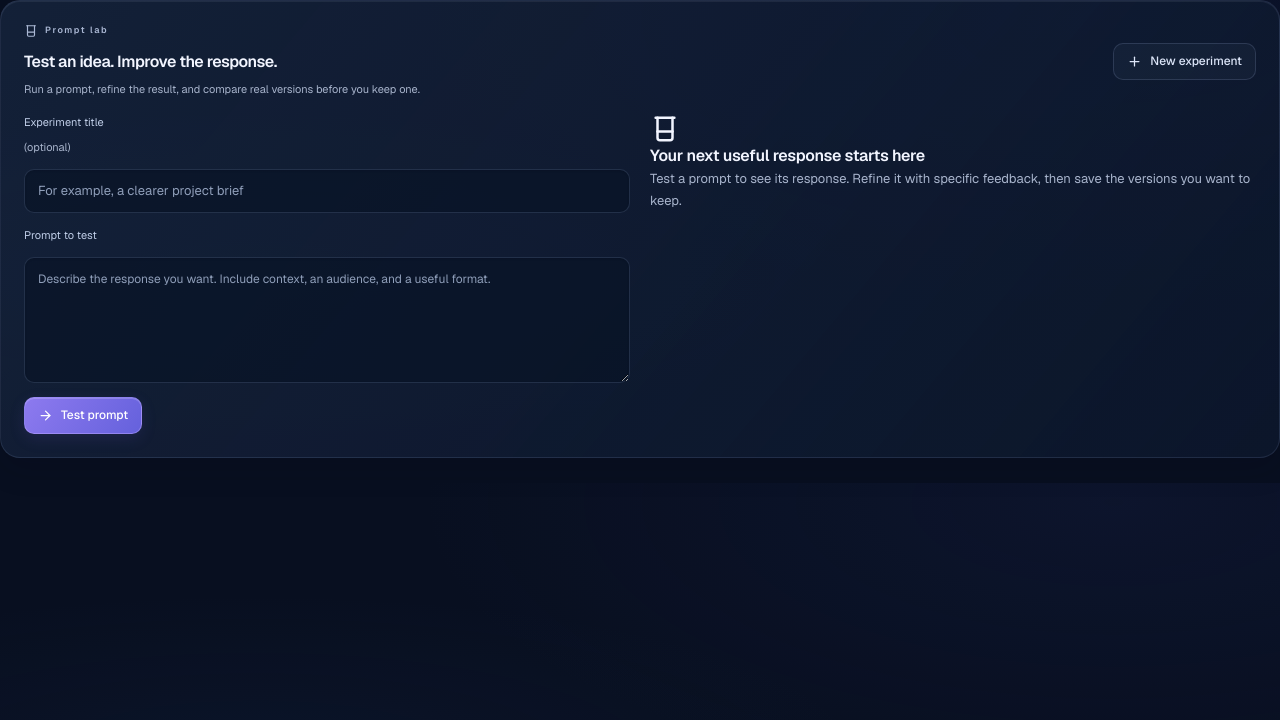
Test: prompt experiment workspace › preserves the prompt and earlier response when a refinement fails
Replace the text in the text box labelled "Prompt to test" with "Write a project brief with next steps.". click: (327, 320)
box: left=24, top=257, right=630, bottom=383
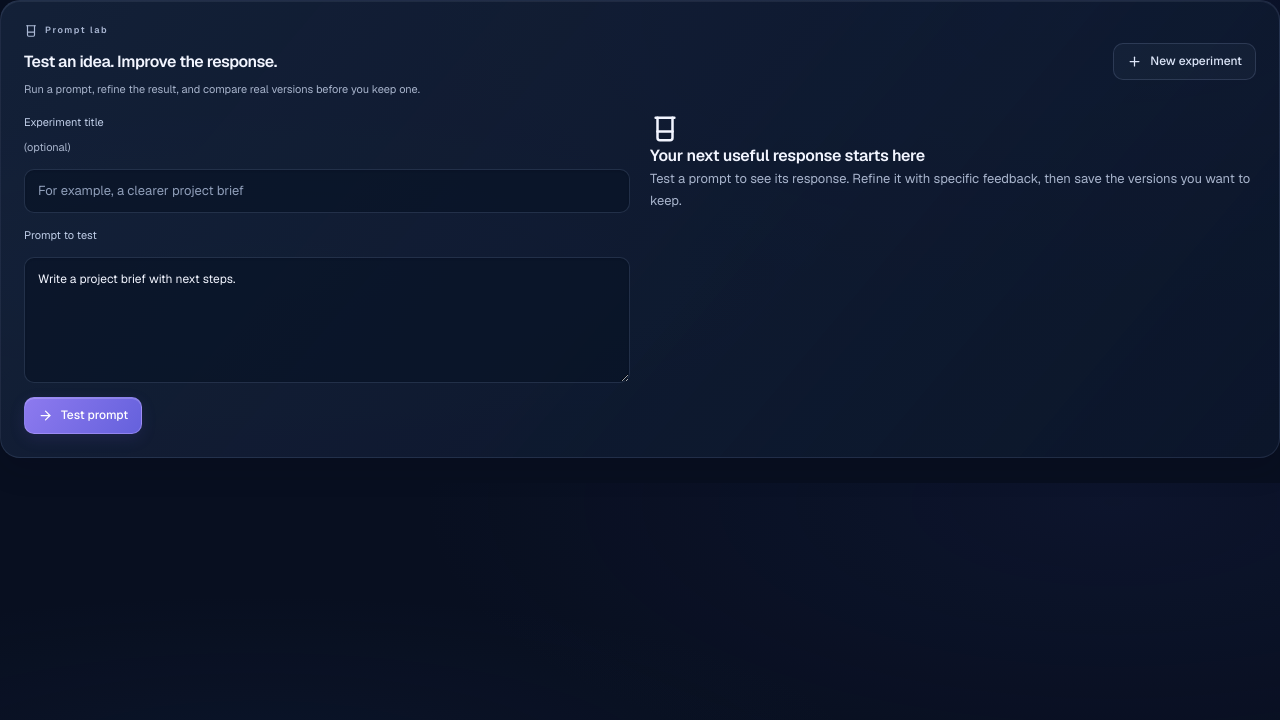
Click the button "Test prompt". click: (83, 416)
box: left=24, top=397, right=142, bottom=434
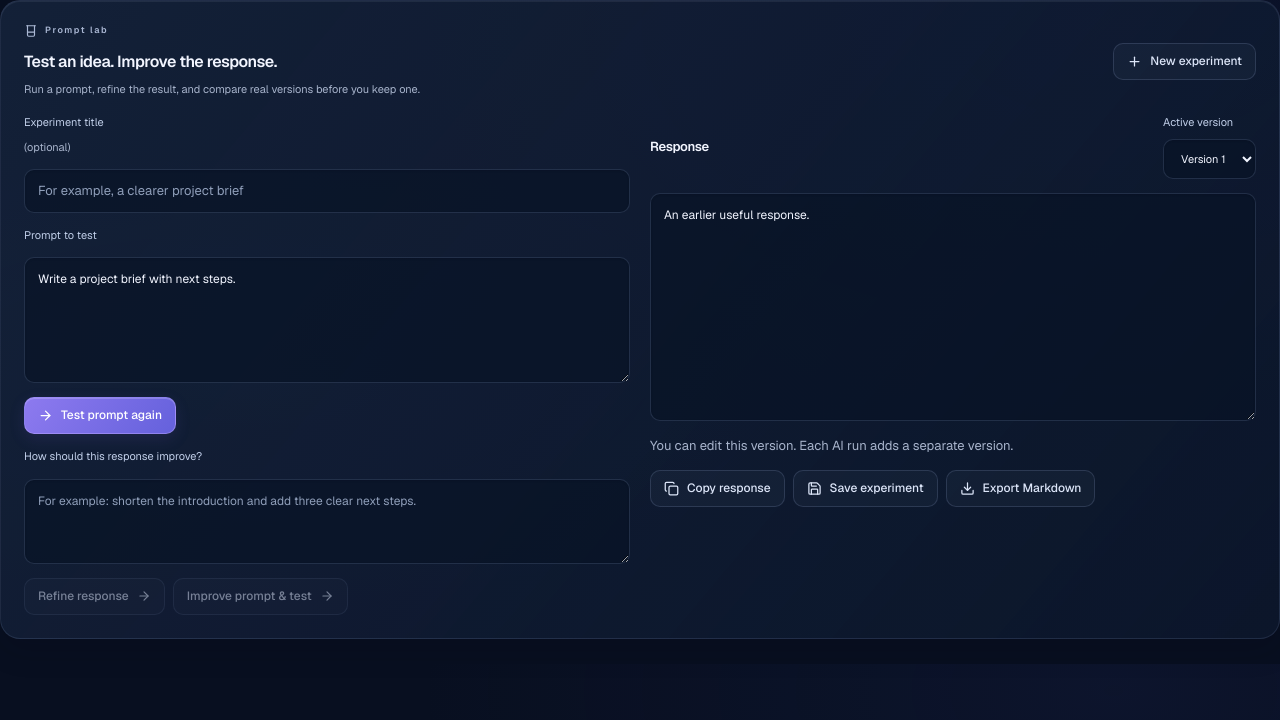
expect the text box named "Experiment response" is shown: met, box left=650, top=193, right=1256, bottom=420
Replace the text in the text box labelled "How should this response improve?" with "Use simpler words". click: (327, 521)
box: left=24, top=479, right=630, bottom=564
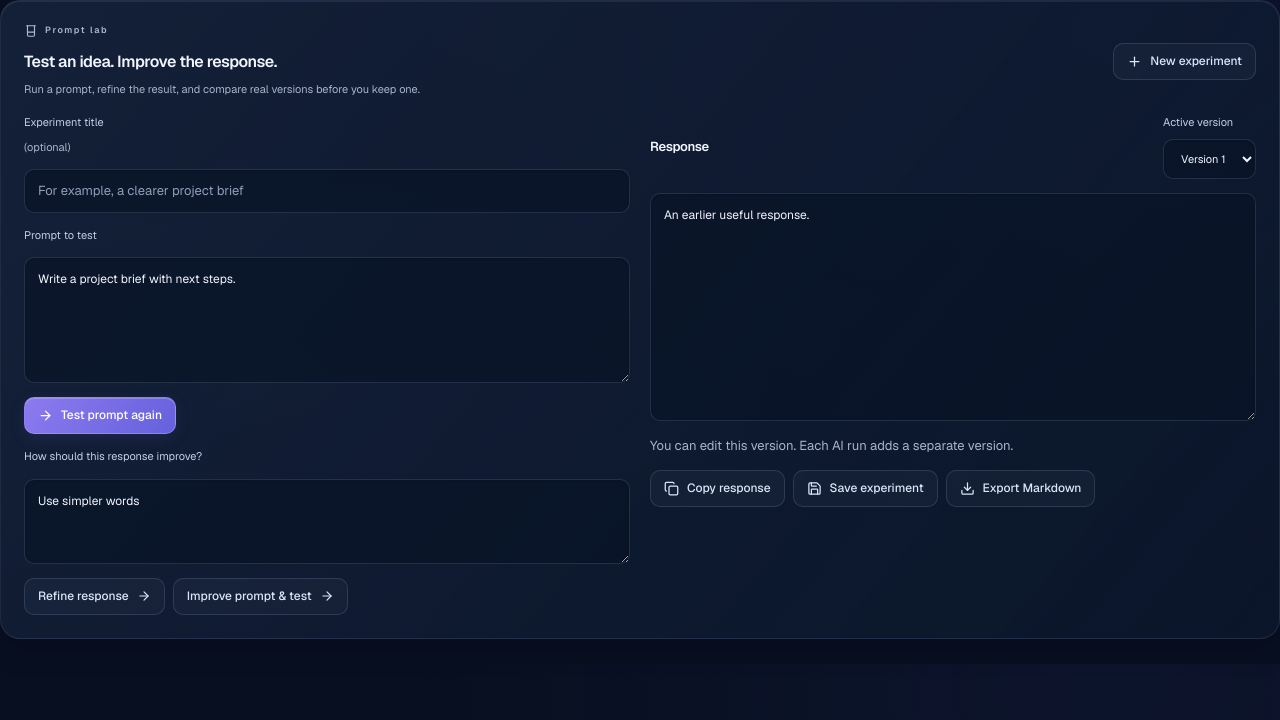
Click the button "Refine response". click: (94, 596)
box: left=24, top=578, right=165, bottom=615
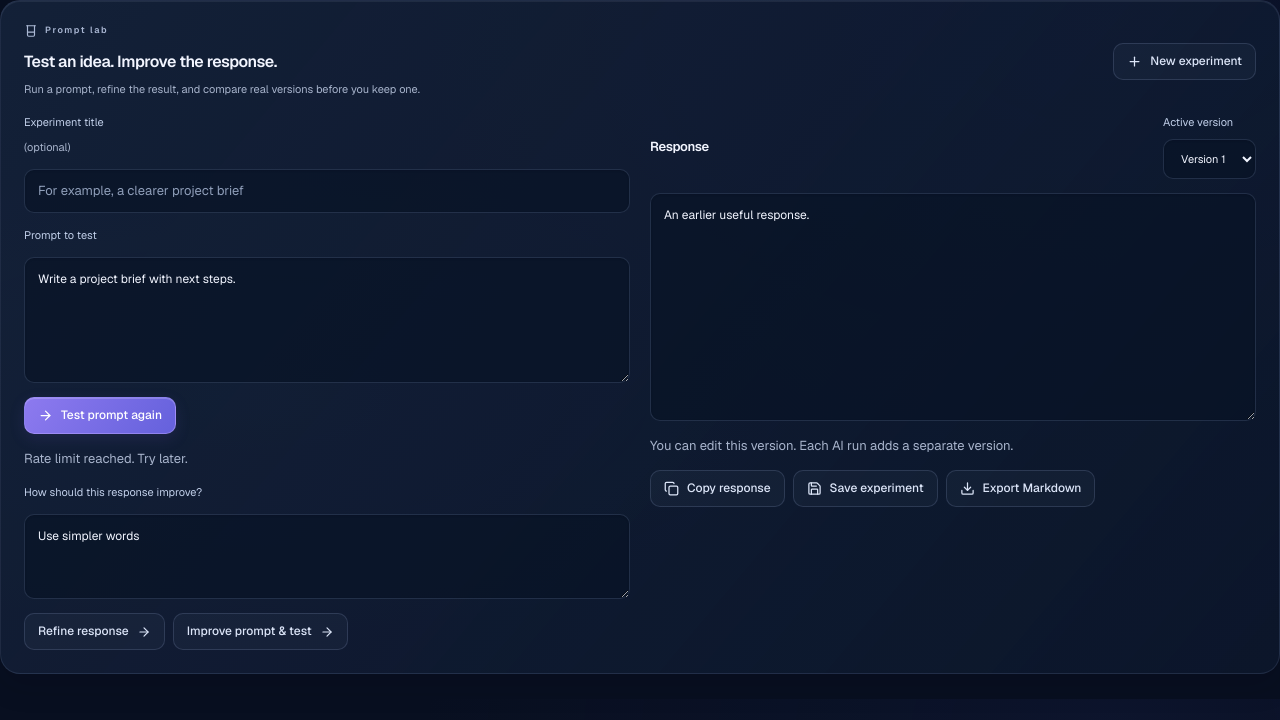
expect the text box named "Experiment response" holds "An earlier useful response.": met, box left=650, top=193, right=1256, bottom=420
expect the message shows "Rate limit reached": met, box left=24, top=450, right=188, bottom=467
